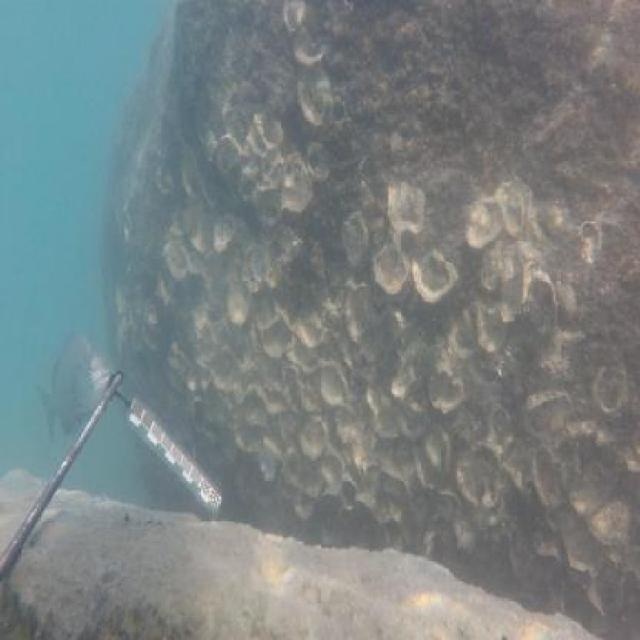acanthopagrus_palmaris: (37, 328, 114, 440)
